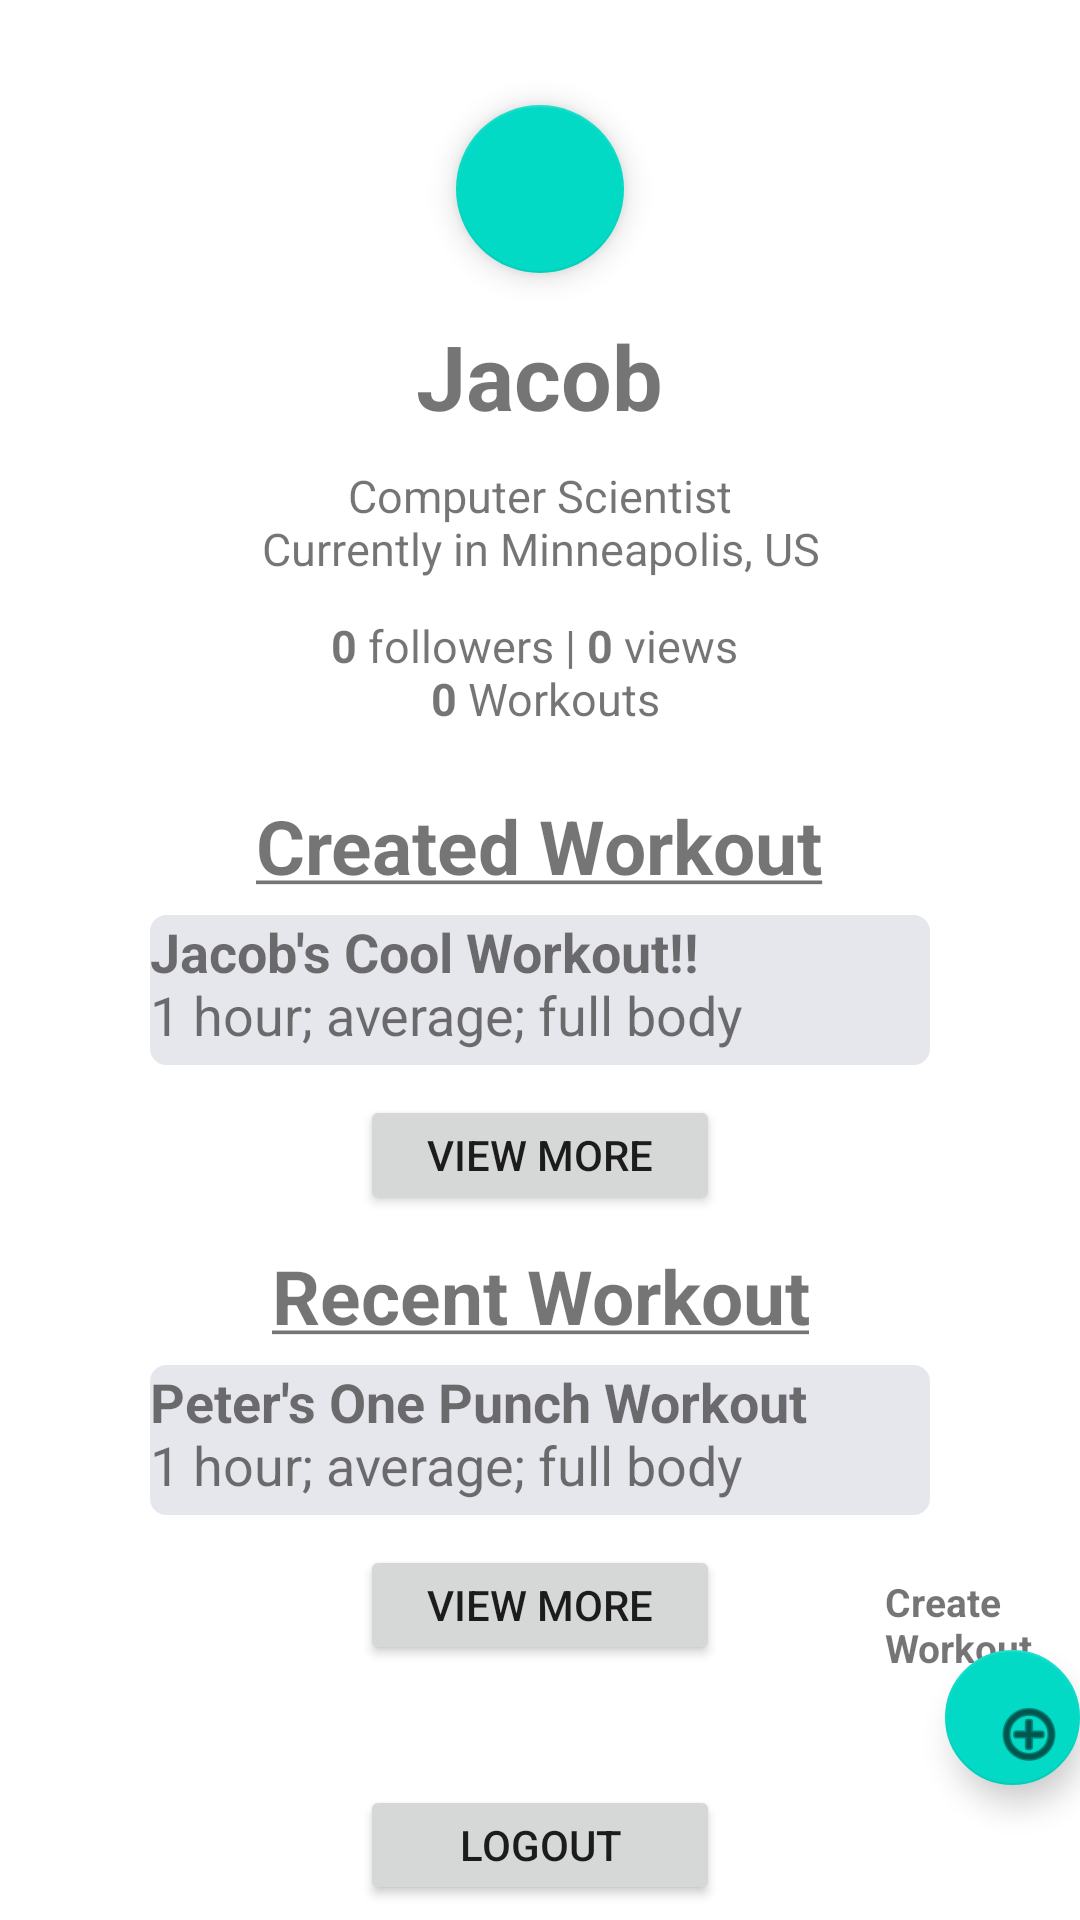

Where to tap for icons on this 1080px x 1920px app screen, as (x=x, y=y):
add: (x=1012, y=1717)
